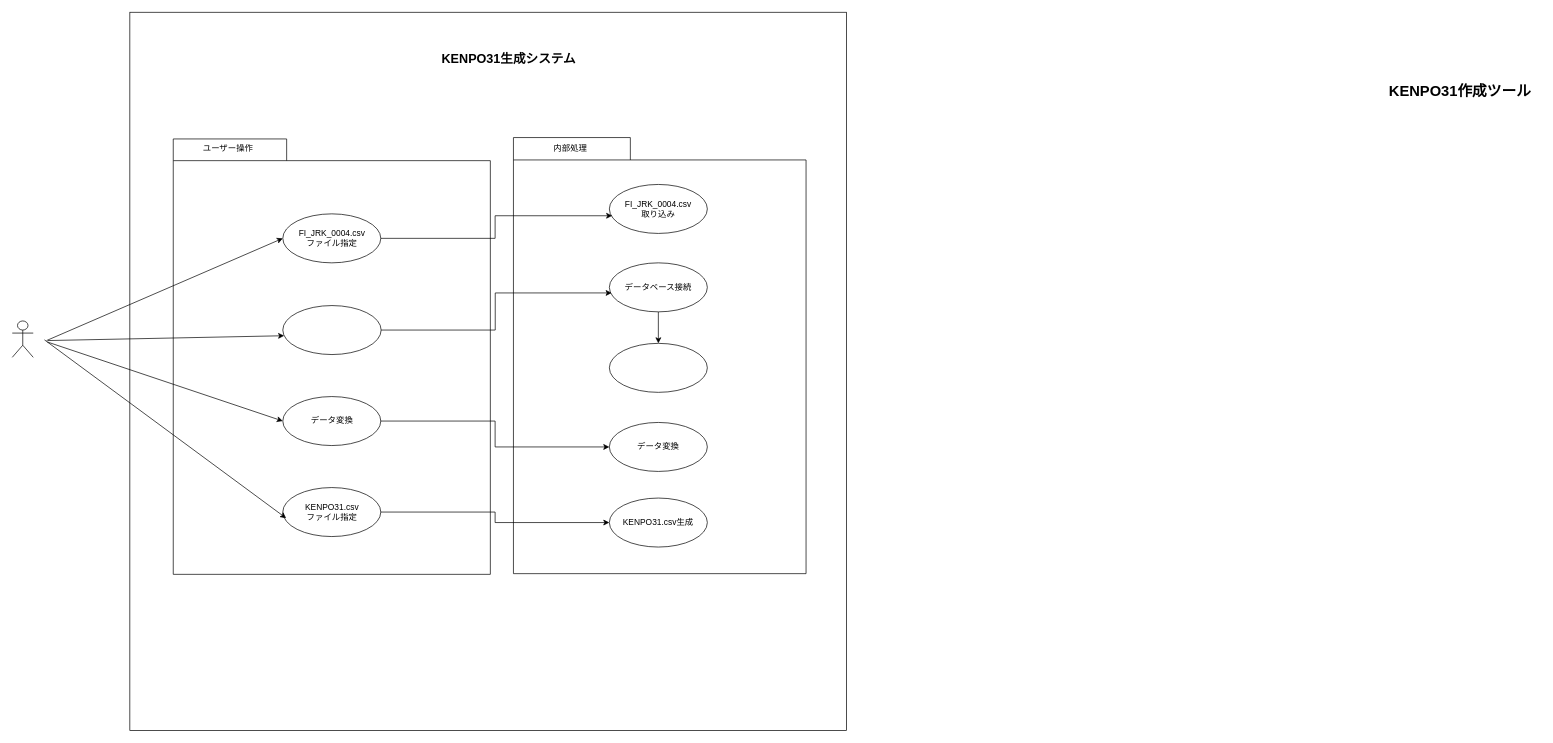
Image size: 1553x743. Some labels were removed from this diagram. The shapes that lost their labels are listed below. From the top down, each one's centre as x and y in pixels, then its label:
At point 22,338: "User".
At point 331,330: "データベース接続 操作".
At point 658,367: "データベースから データ取得".
